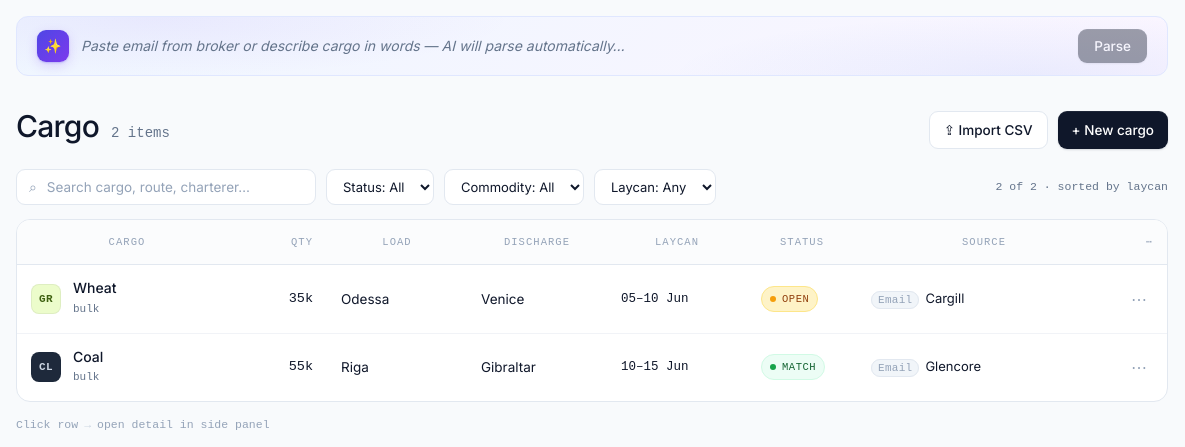
it: CargoClient › shows no-match state when filter returns nothing
The width and height of the screenshot is (1185, 447).
Step 1. Type "xyznonexistent" into the field named "Search cargo" → (175, 187), box [47, 177, 303, 197]
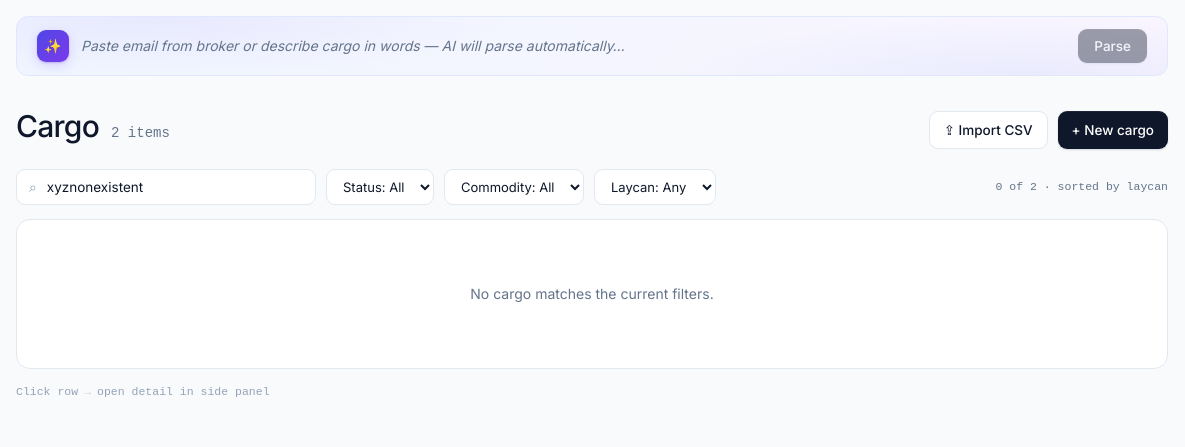
Now the text "No cargo matches the current filters." is shown, box [470, 285, 714, 302]
